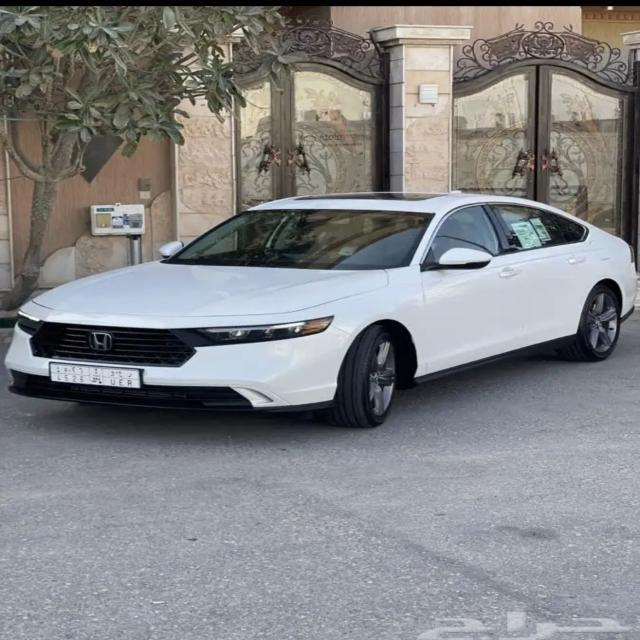license_plate: (49, 361, 142, 388)
